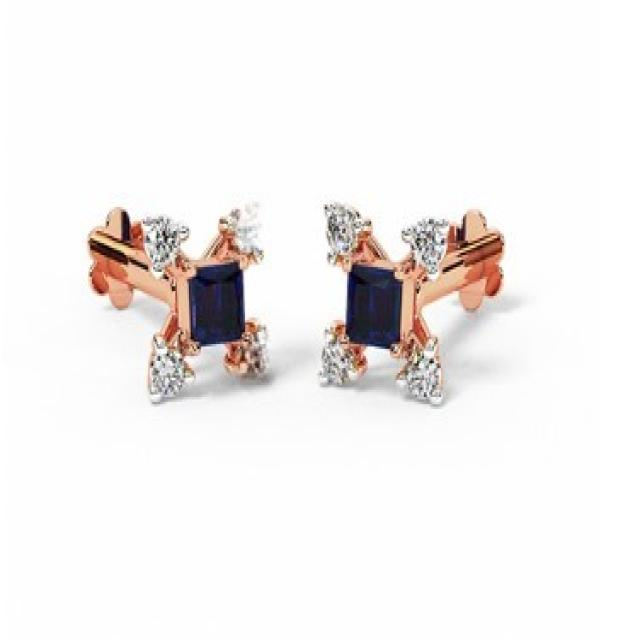missing gem: (227, 195, 263, 254), (234, 328, 266, 378)
